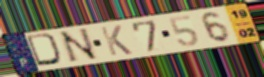5: (167, 14, 201, 48)
6: (201, 11, 233, 44)
7: (129, 18, 158, 53)
D: (24, 32, 66, 68)
K: (98, 24, 135, 57)
N: (58, 27, 102, 65)
